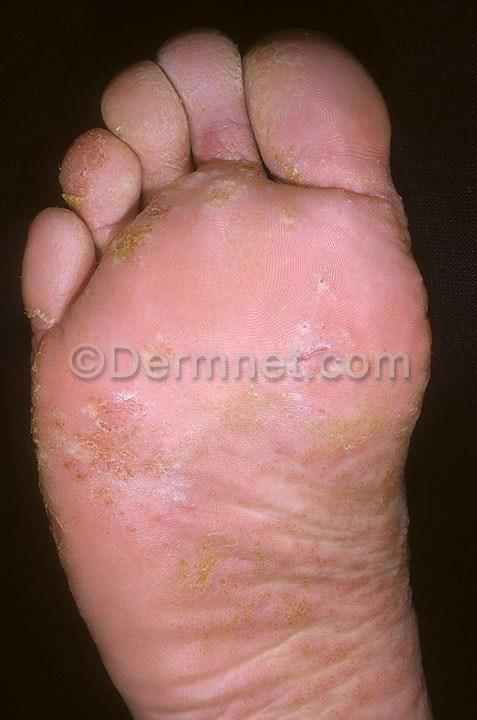Eczema: (300, 497, 413, 689), (147, 390, 295, 486), (165, 510, 299, 611), (308, 396, 422, 501), (100, 195, 203, 302), (43, 401, 134, 505), (186, 150, 292, 239)
